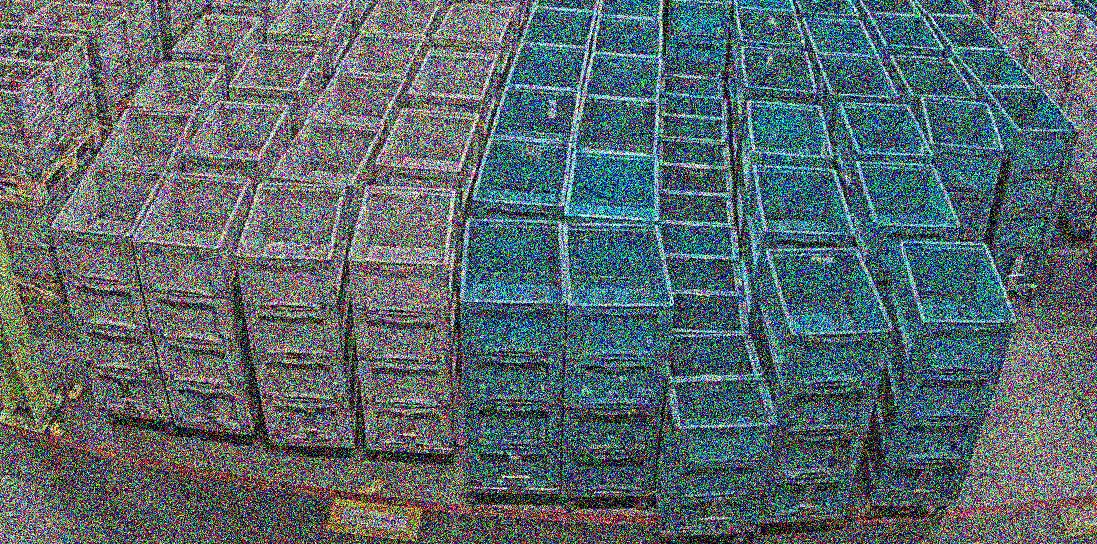4G: (131, 168, 260, 430), (233, 181, 358, 446), (50, 162, 174, 423), (346, 185, 458, 453)
B4: (865, 241, 1018, 505), (749, 246, 895, 519), (560, 221, 676, 495), (459, 217, 569, 490), (917, 95, 1006, 242)
B8: (654, 332, 778, 533)
